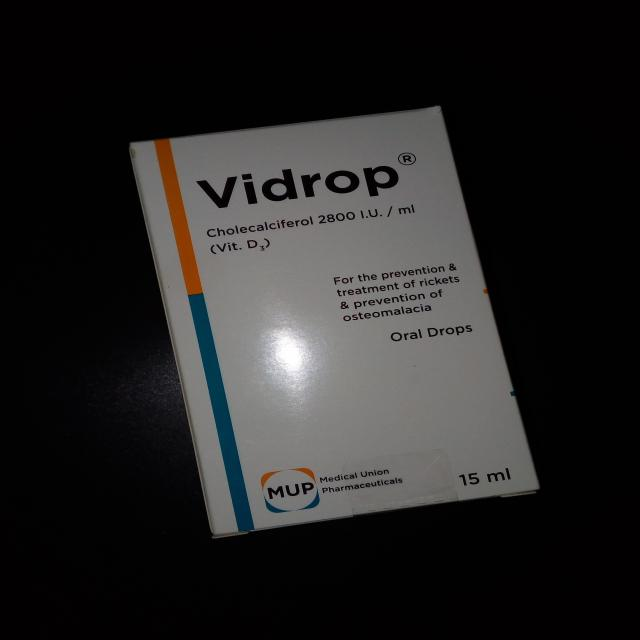Medicine: (120, 102, 544, 545)
